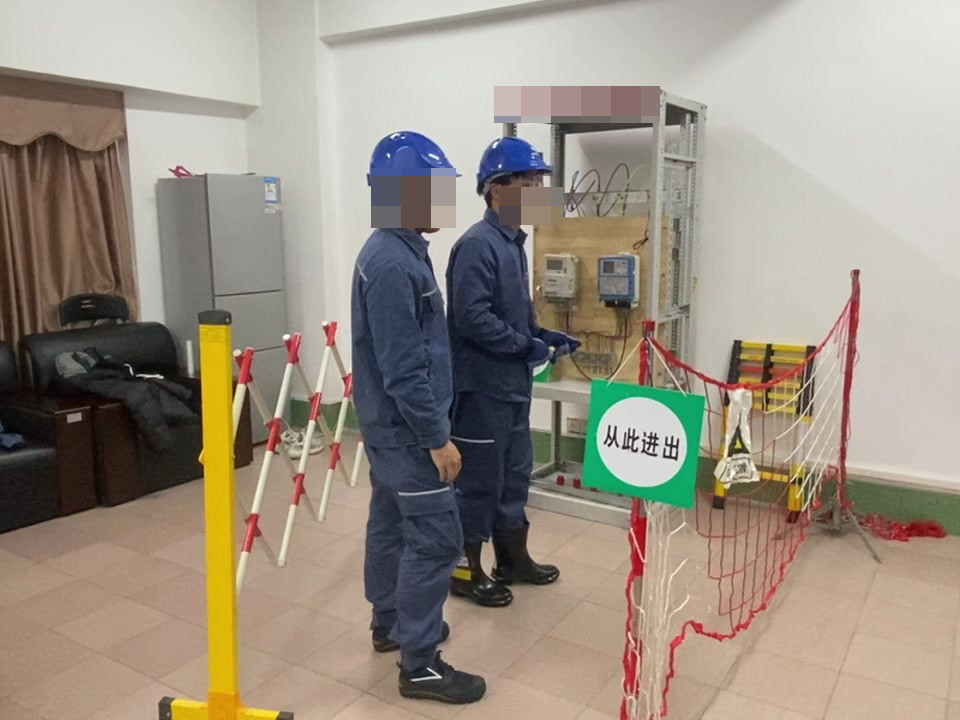downsuit: (361, 442, 463, 659), (457, 399, 533, 560)
glove: (522, 336, 551, 364), (547, 329, 576, 357)
halt: (365, 131, 459, 231), (475, 136, 556, 223)
hand: (432, 441, 462, 483)
inear: (384, 179, 425, 224)
intosign: (581, 379, 709, 503)
noear: (485, 176, 512, 211)
person: (346, 130, 483, 703), (443, 134, 578, 602)
shoe: (447, 541, 506, 605), (493, 525, 559, 582)
upsuit: (350, 225, 451, 444), (448, 216, 547, 395)
